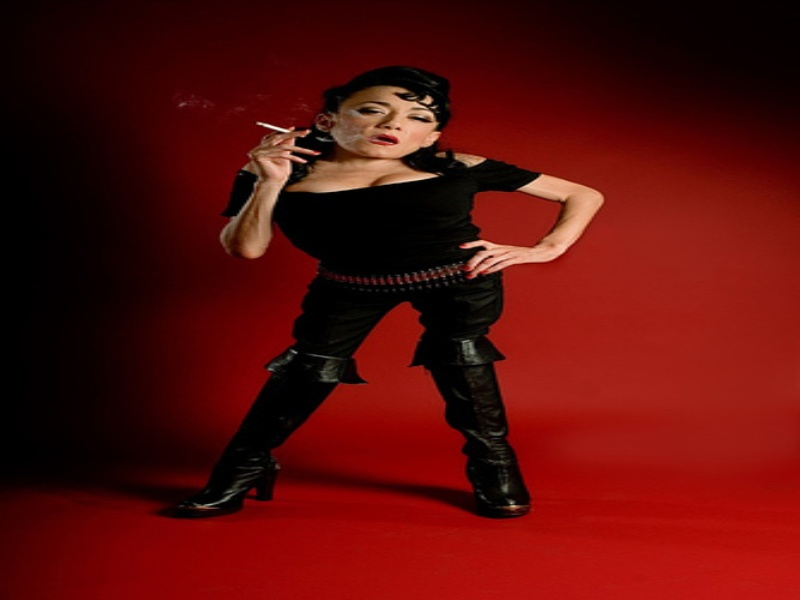person: (171, 65, 605, 518)
